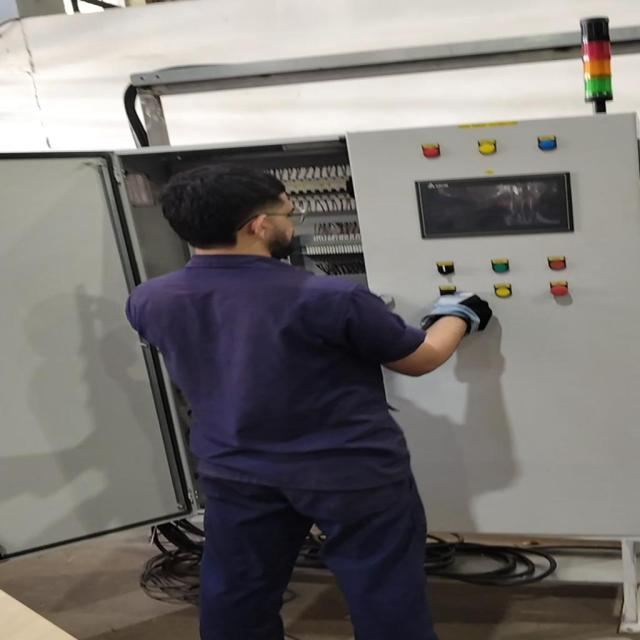Gloves-Detection: (418, 288, 494, 334)
